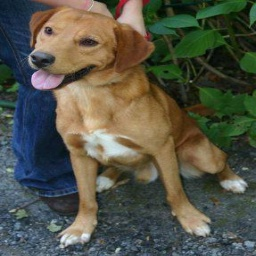dog: (27, 6, 249, 246)
